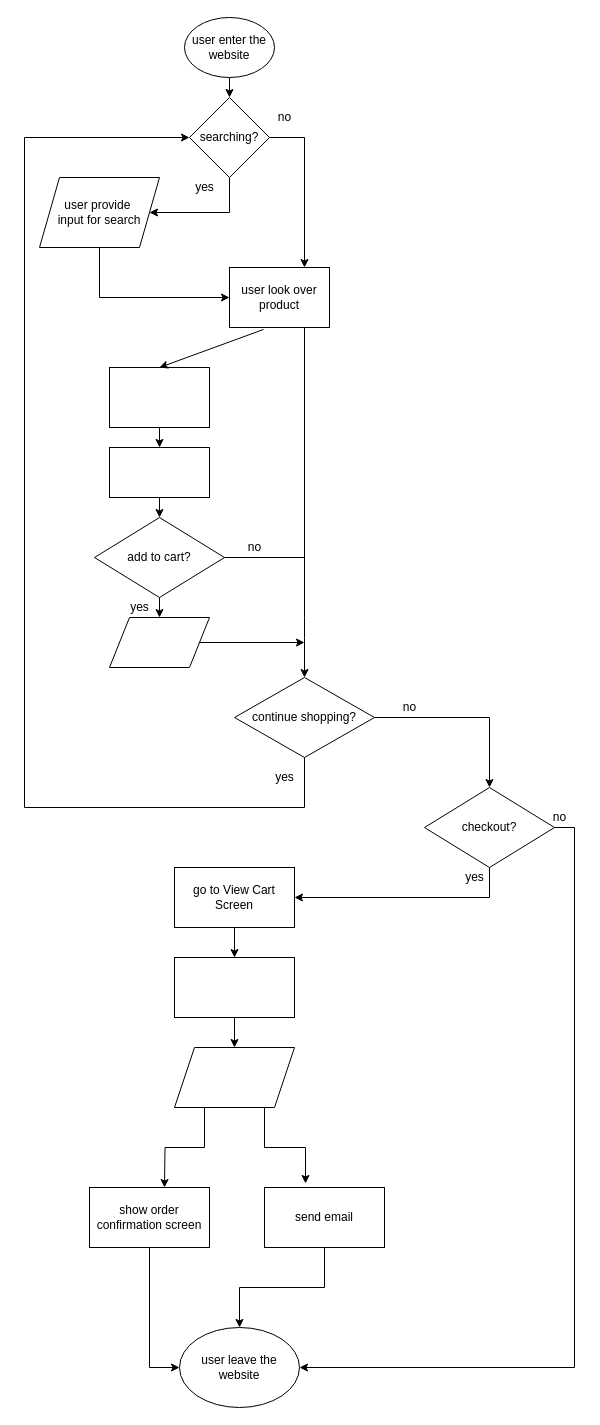
This 600x1425 diagram has some shape labels left out. The centre of each missing label's shape, as x and y in pixels:
"go to View Payment Screen" belongs at (x=234, y=987).
"input payment information" belongs at (x=234, y=1077).
"open product's webpage" belongs at (x=159, y=472).
"send confirmation" belongs at (x=159, y=642).
"user view specific product" belongs at (x=159, y=397).
